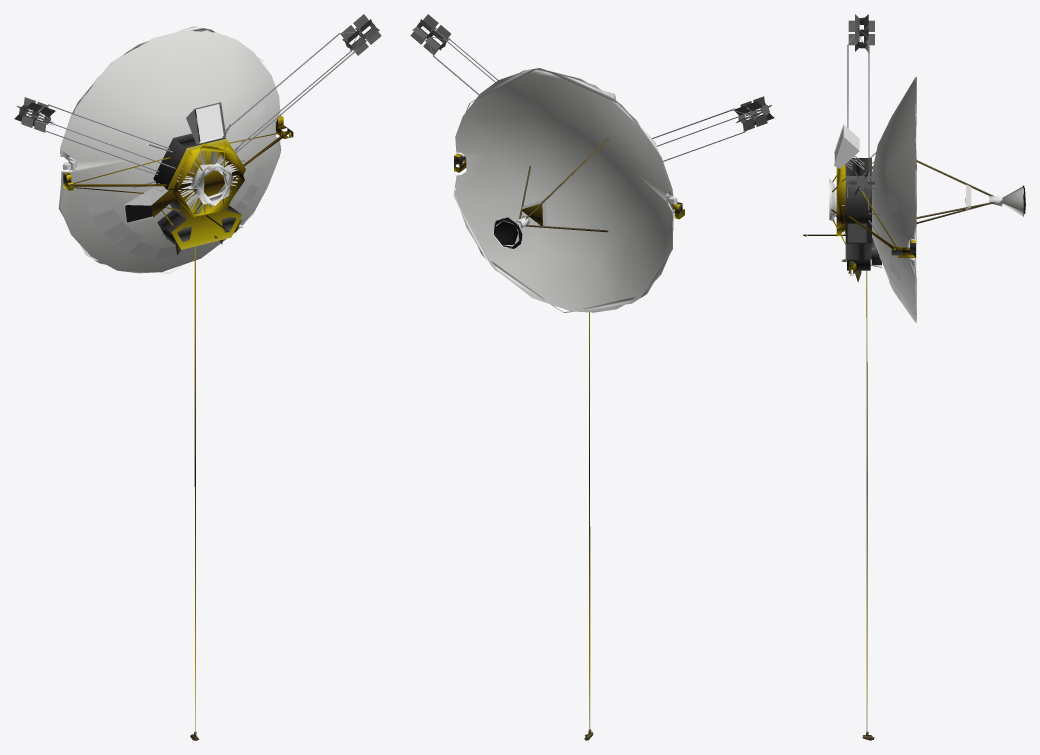
The model's file is pioneer10_lod2.glb.
The picture shows the model from 3 angles, left to right: view 1: azimuth 30°, elevation 25°; view 2: azimuth 150°, elevation 25°; view 3: azimuth 270°, elevation 25°; orthographic projection. The views are drawn at different scales.
Parts seen in each view (by area): view 1: pioneer10_lod2; view 2: pioneer10_lod2; view 3: pioneer10_lod2.
Part boxes in pixels (box(x1,y1,x2,y2)): pioneer10_lod2: box(14, 14, 381, 740); pioneer10_lod2: box(410, 14, 774, 740); pioneer10_lod2: box(803, 14, 1025, 740).
Bounding box in the file's own units: 4.52 × 8.27 × 2.56.
11 materials, 5 textured.
